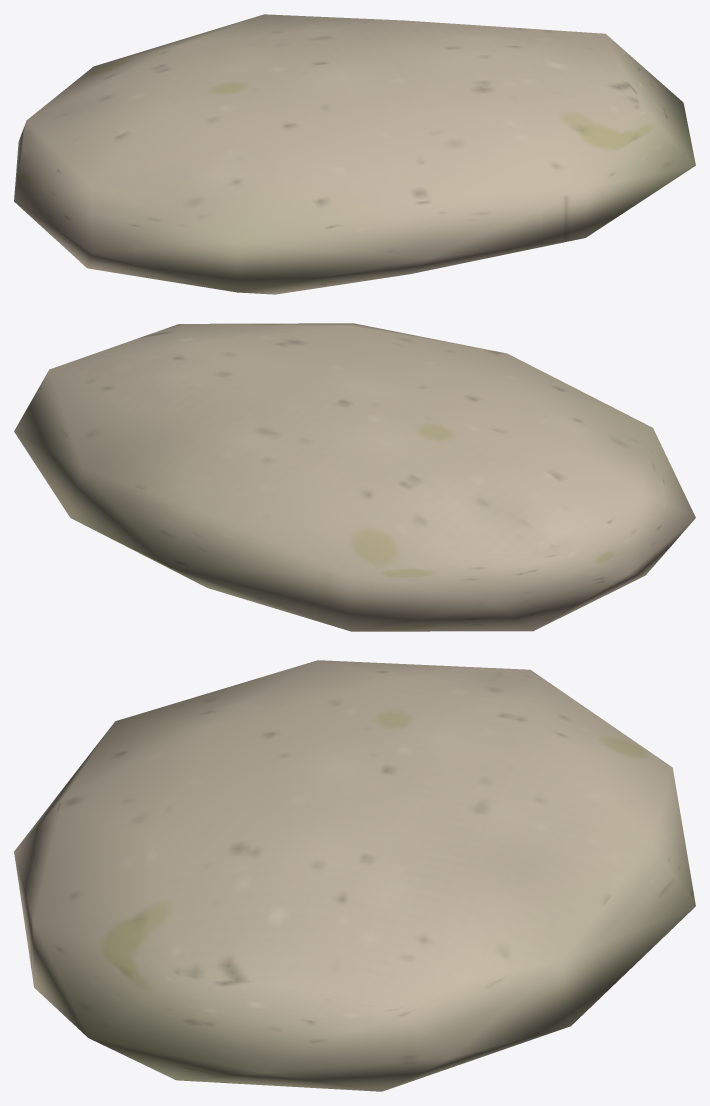
File: region-prop-220.glb
3 renders of one model, top to bottom at view 1: azimuth 30°, elevation 25°; view 2: azimuth 150°, elevation 25°; view 3: azimuth 270°, elevation 25°, orthographic. The views are drawn at different scales.
Parts seen in each view (by area): view 1: props_rock_0; view 2: props_rock_0; view 3: props_rock_0.
Boxes of the visible parts, x1,y1,x2,y2 form: props_rock_0: (14, 14, 695, 294); props_rock_0: (14, 323, 695, 631); props_rock_0: (14, 660, 695, 1091).
Bounding box in the file's own units: 0.5475 × 0.1448 × 0.4143.
1 material, 1 textured.
